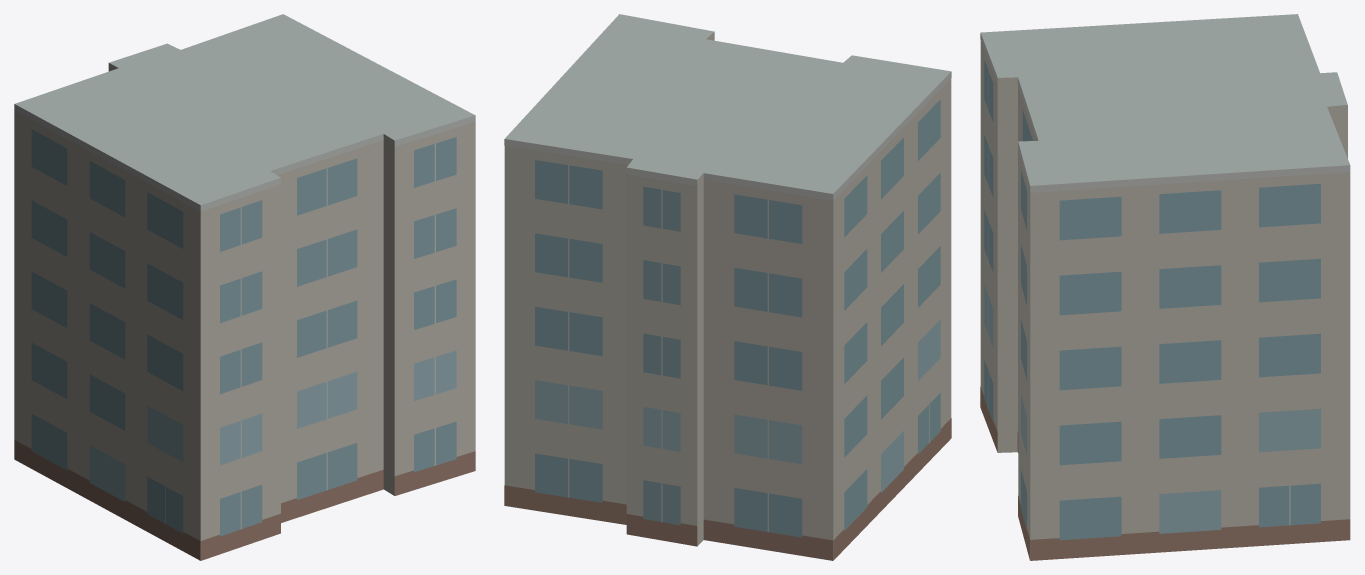
Rendered from survey-upis-32716156.glb.
3 renders of one model, left to right at view 1: azimuth 30°, elevation 25°; view 2: azimuth 150°, elevation 25°; view 3: azimuth 270°, elevation 25°, orthographic. The views are drawn at different scales.
Parts seen in each view (by area): view 1: survey-upis-32716156.tmp; view 2: survey-upis-32716156.tmp; view 3: survey-upis-32716156.tmp.
Boxes of the visible parts, x1,y1,x2,y2 form: survey-upis-32716156.tmp: (14, 14, 475, 560); survey-upis-32716156.tmp: (504, 14, 951, 560); survey-upis-32716156.tmp: (980, 14, 1350, 560).
Size of the model in its own units: 13.29 by 13.5 by 12.08.
